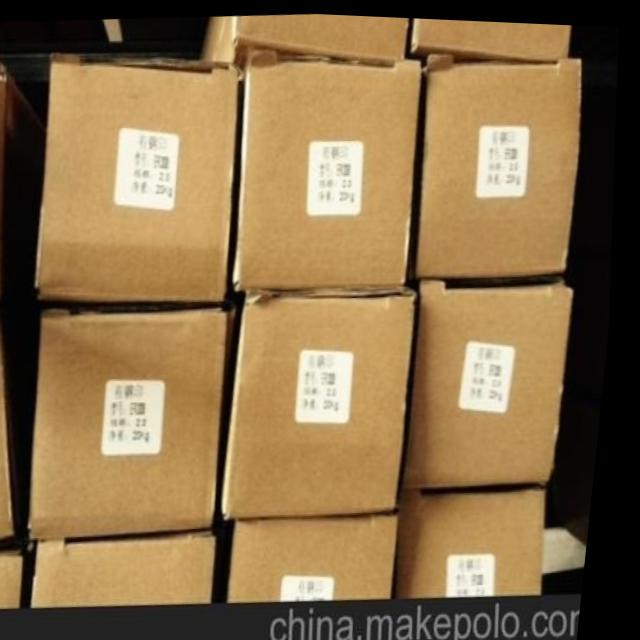box: (40, 56, 242, 302), (38, 303, 243, 545), (231, 285, 422, 516), (238, 50, 419, 292), (419, 53, 583, 276), (412, 275, 581, 490), (409, 481, 556, 593), (233, 509, 408, 599), (42, 527, 227, 607), (190, 12, 411, 69), (0, 62, 47, 313), (0, 305, 40, 542), (412, 14, 570, 53), (0, 547, 33, 607)
